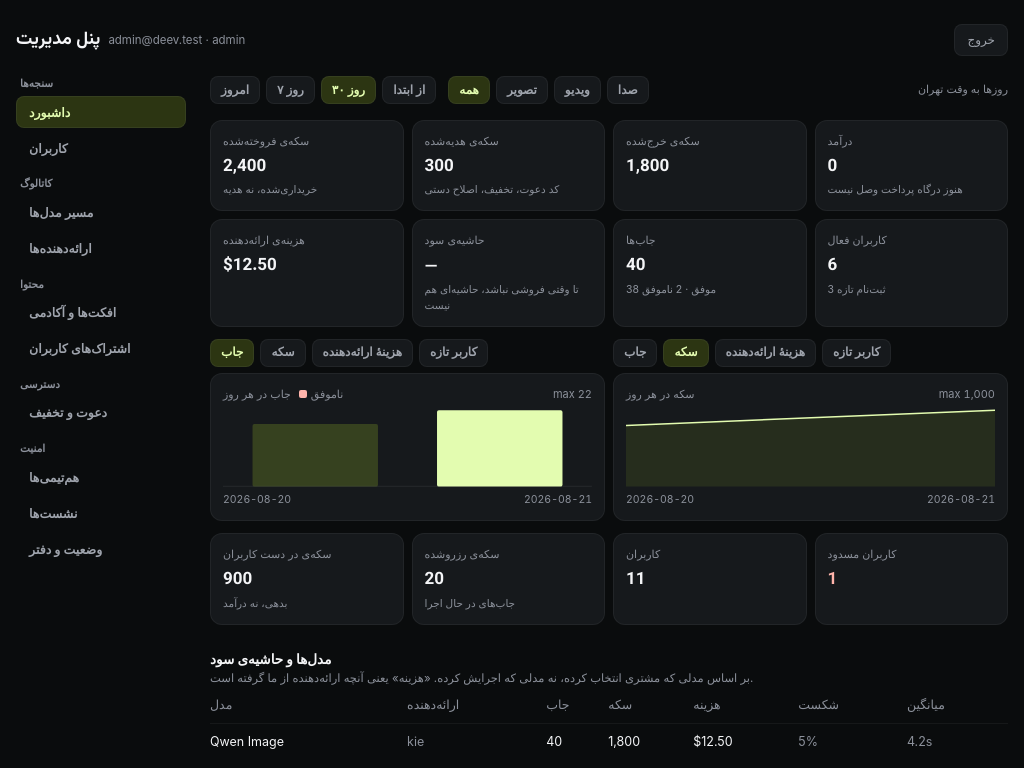
Test: the admin console › adds a route switched off, because nobody has proved it yet
The image size is (1024, 768).
Expected: the heading "پنل مدیریت" is shown, [16, 27, 100, 55]
Click the button "مسیر مدل‌ها".
click(101, 212)  # box [16, 196, 186, 228]
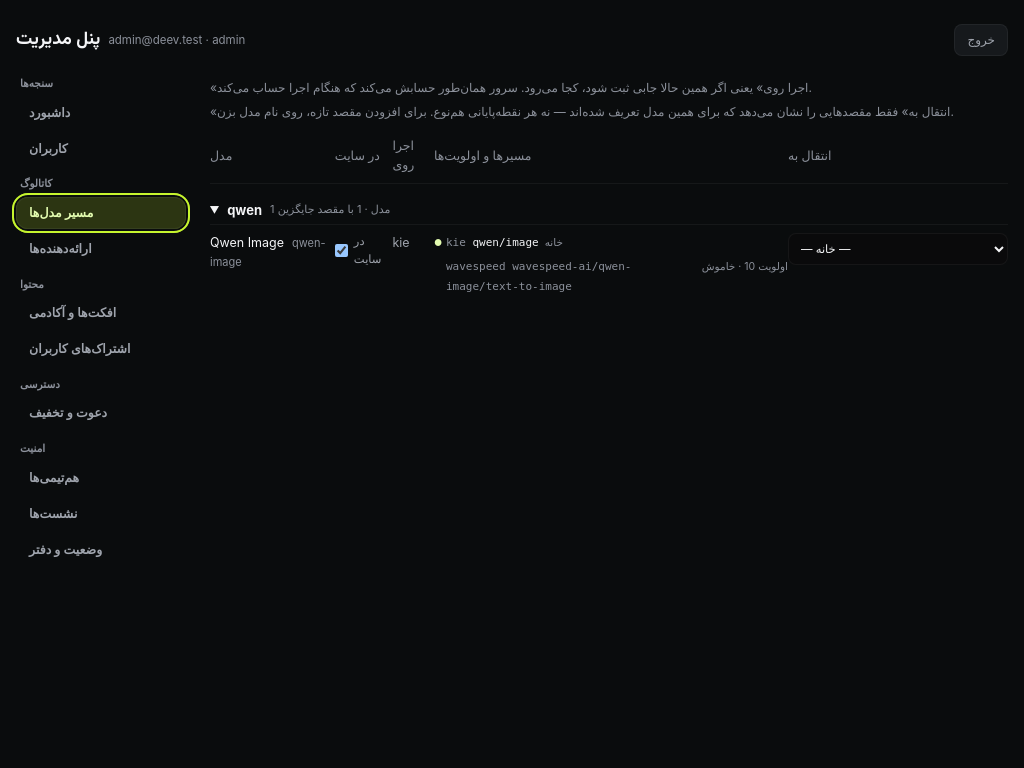
Click the button "Qwen Image".
click(247, 243)  # box [210, 233, 284, 252]
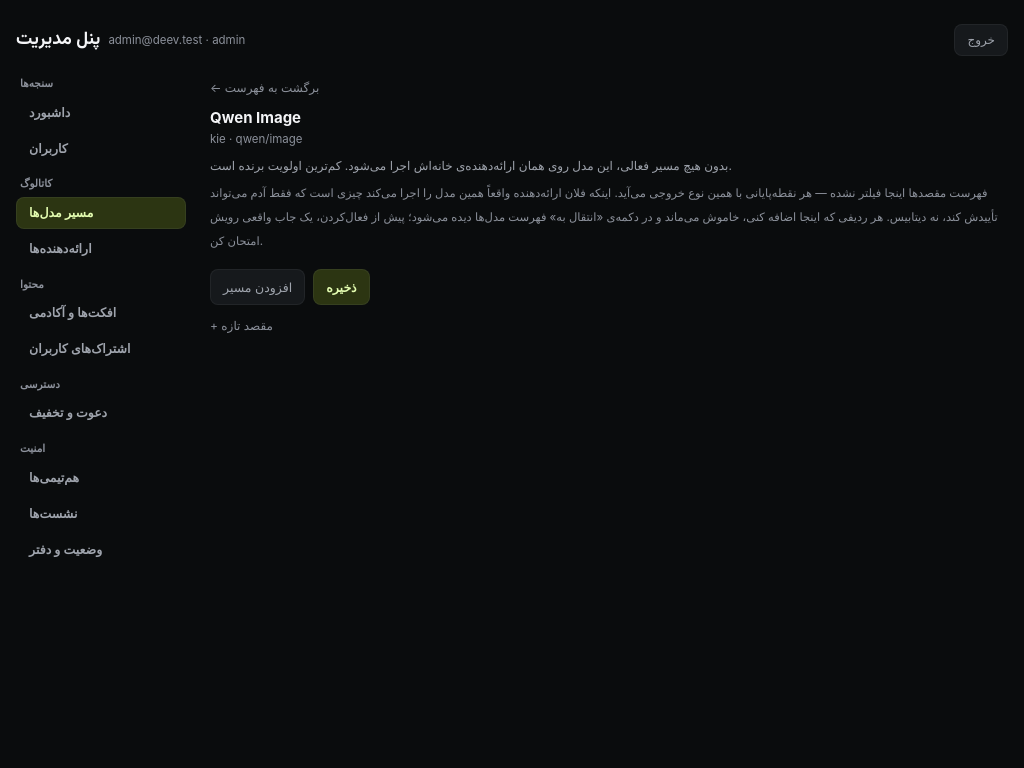
Click the button "افزودن مسیر".
click(258, 287)  # box [210, 269, 305, 305]
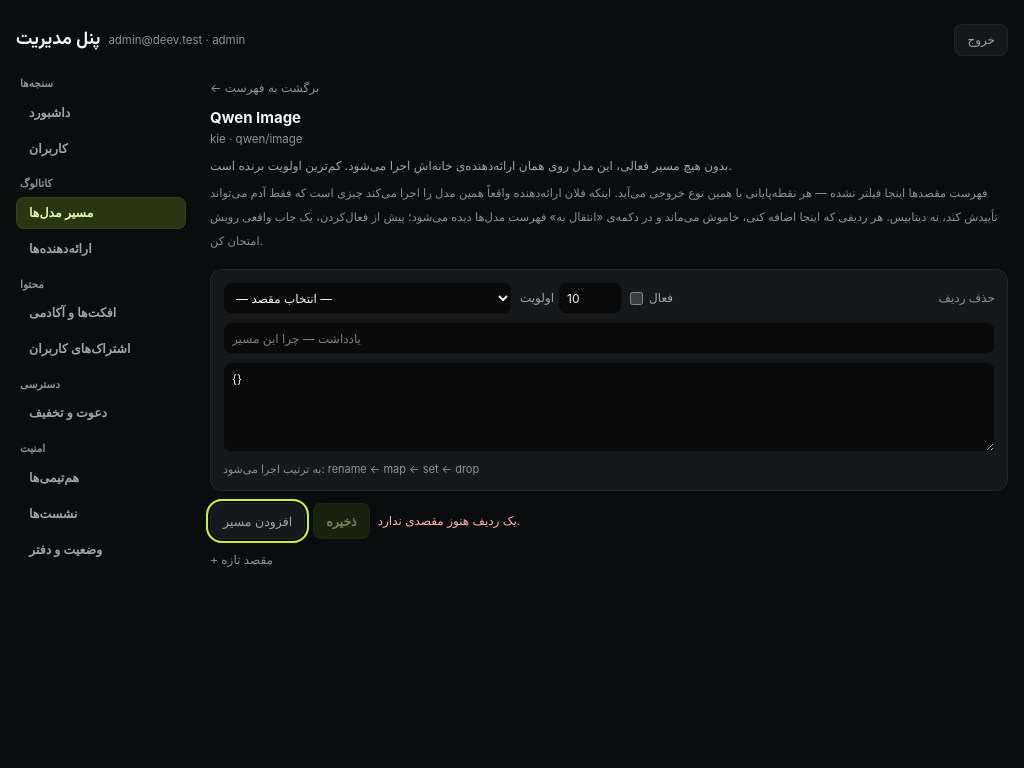
Now the checkbox is not checked, box [630, 292, 643, 305]
